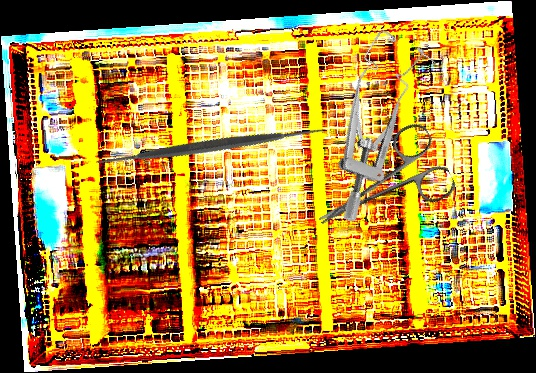Iris Scissors: (300, 118, 459, 255)
Spatula Surgical: (88, 24, 333, 269)
Speculum: (285, 24, 453, 226)
